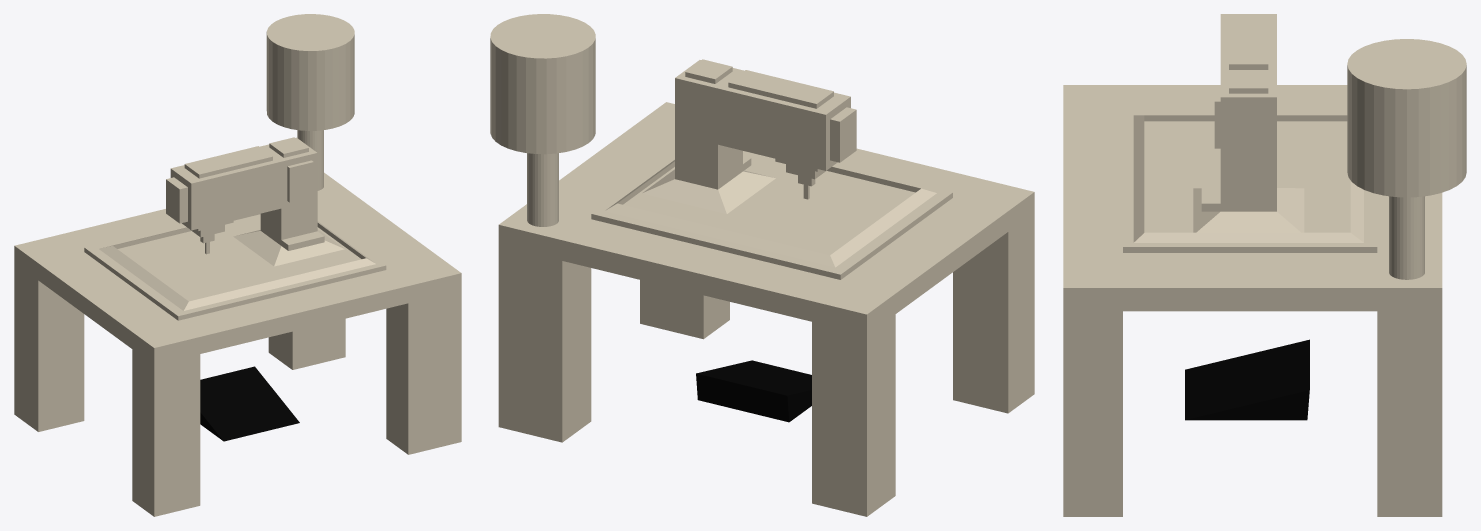
The model's file is JUKI.gltf.
3 renders of one model, left to right at view 1: azimuth 30°, elevation 25°; view 2: azimuth 150°, elevation 25°; view 3: azimuth 270°, elevation 25°, orthographic. The views are drawn at different scales.
Parts seen in each view (by area): view 1: Cube, Cube.002, Cube.001; view 2: Cube, Cube.002, Cube.001; view 3: Cube, Cube.002, Cube.001.
Part boxes in pixels (bbox=[...]): Cube: bbox=[14, 14, 461, 516]; Cube.002: bbox=[166, 137, 344, 266]; Cube.001: bbox=[200, 366, 299, 441]; Cube: bbox=[490, 14, 1034, 516]; Cube.002: bbox=[642, 59, 856, 214]; Cube.001: bbox=[696, 360, 811, 422]; Cube: bbox=[1063, 39, 1466, 516]; Cube.002: bbox=[1193, 14, 1304, 232]; Cube.001: bbox=[1185, 339, 1309, 420].
Bounding box in the file's own units: 8.43 × 8.08 × 6.76.
